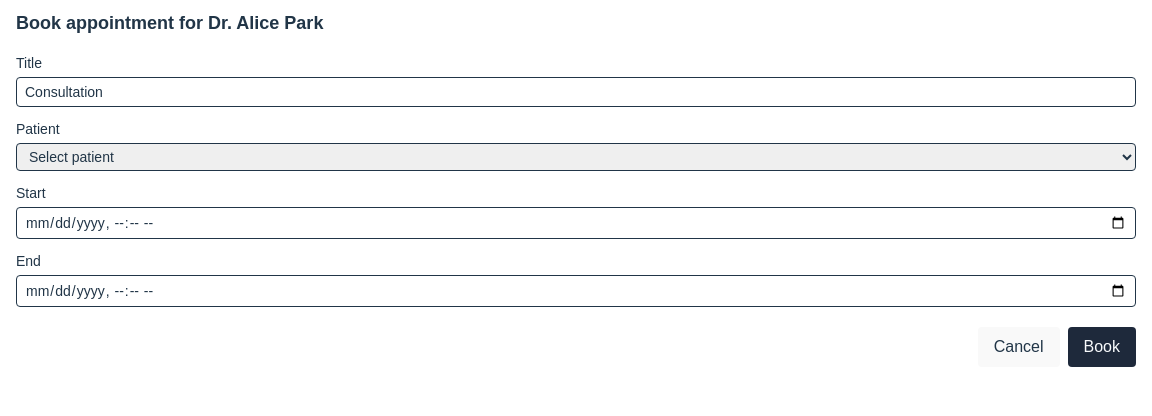
Scenario: Admin form flows › shows booking error on failed request
Select "John Doe" in the dropdown labelled "Patient" at x=576, y=157, box [16, 143, 1136, 171]
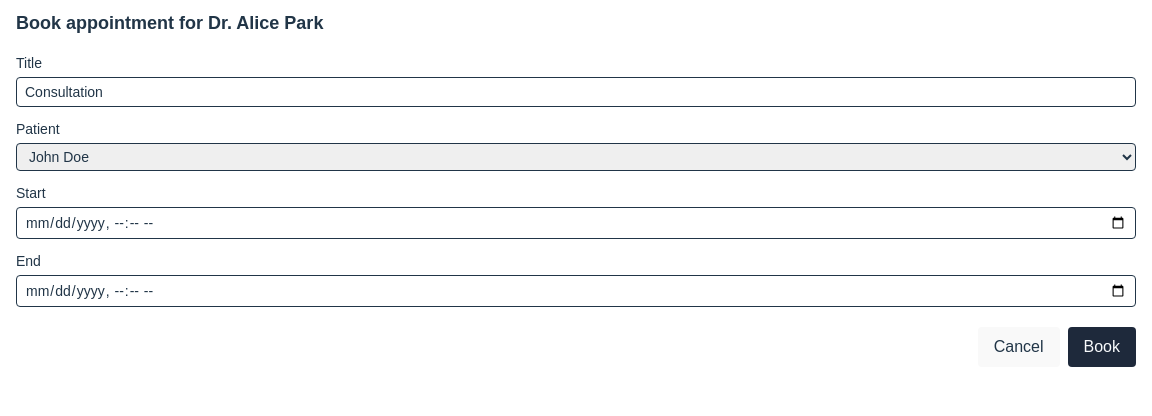
Type "2026-02-13T09:00" into the field labelled "Start" at x=576, y=223, box [16, 207, 1136, 239]
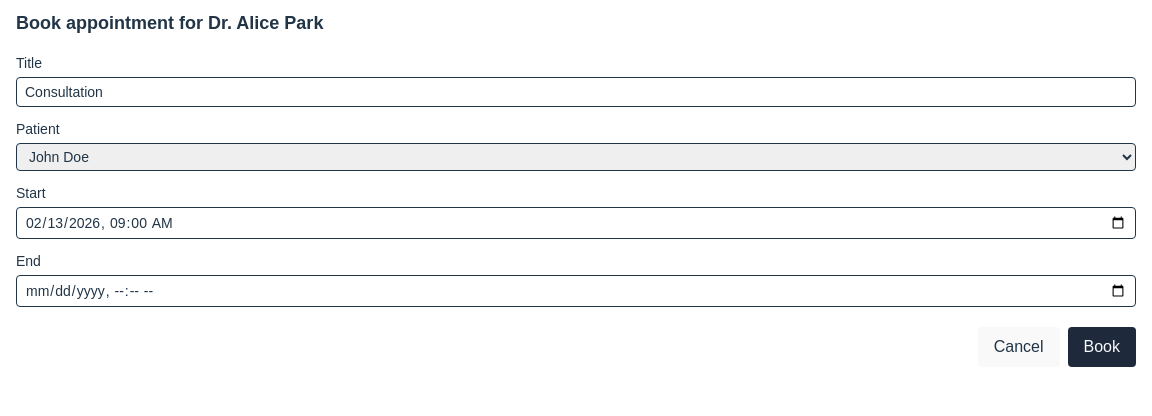
Type "2026-02-13T09:30" into the field labelled "End" at x=576, y=291, box [16, 275, 1136, 307]
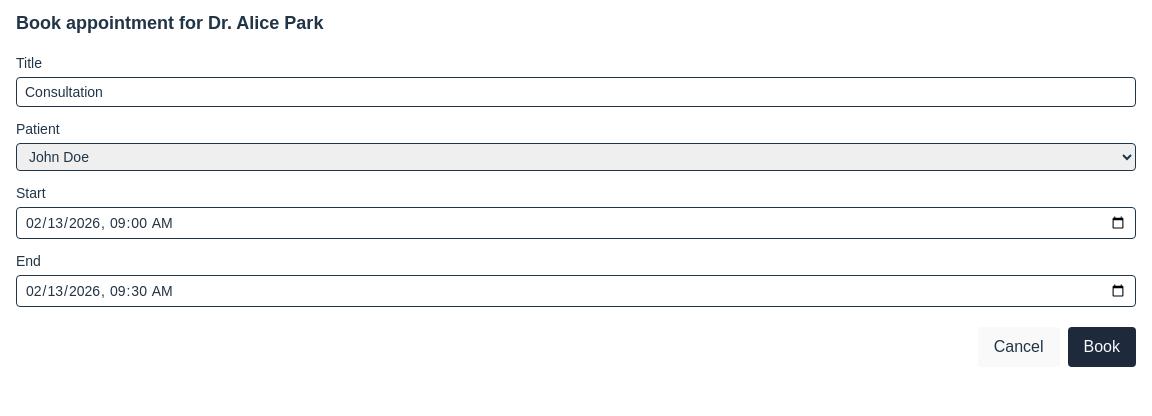
Click the button "Book" at x=1102, y=347, box [1068, 327, 1136, 367]
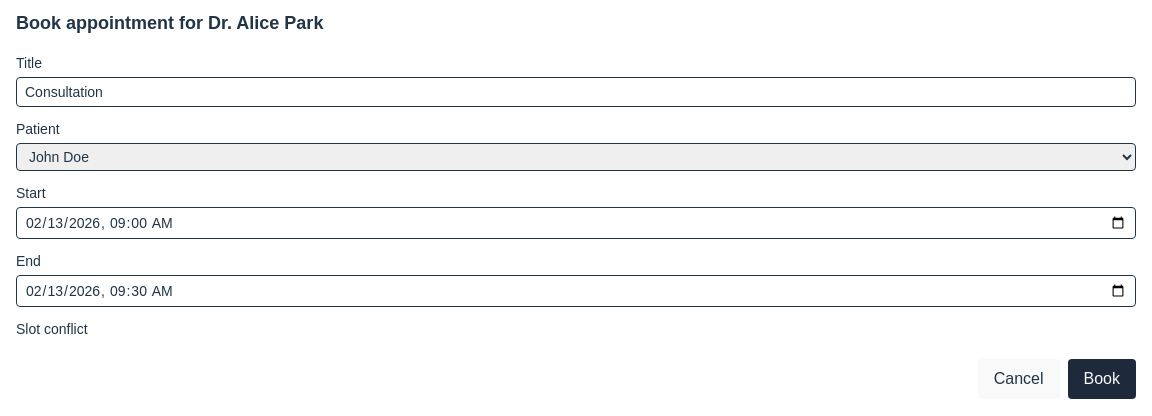
Now the text "Slot conflict" is shown, box [16, 321, 88, 337]
